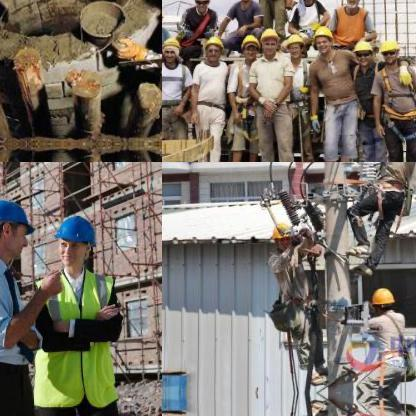Helmet: (50, 206, 94, 274), (0, 191, 34, 262), (368, 284, 396, 312), (269, 216, 293, 246), (376, 37, 402, 64), (352, 38, 374, 67), (162, 34, 181, 67), (311, 25, 333, 53), (285, 30, 305, 60), (260, 26, 278, 56), (203, 35, 223, 62), (240, 31, 258, 60), (192, 0, 211, 14), (339, 0, 364, 9), (237, 0, 253, 6)
